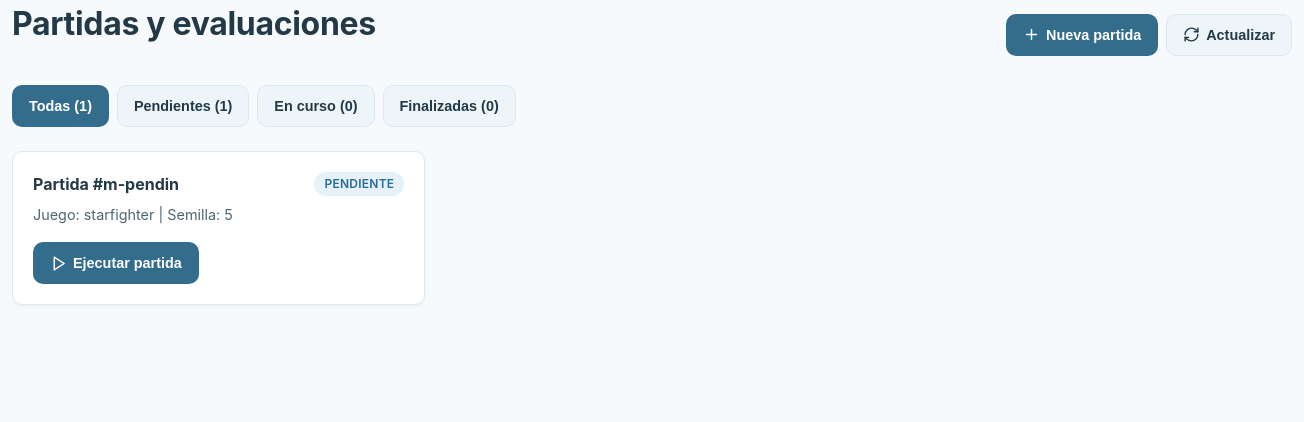
Test: Error States and Recovery (ADR-0009 / F0.6) › MatchesPage error handling › displays inline accessible error alert instead of native alert on execution failure
Click the button "Ejecutar partida" at [116, 263], box 33,242 -> 199,284
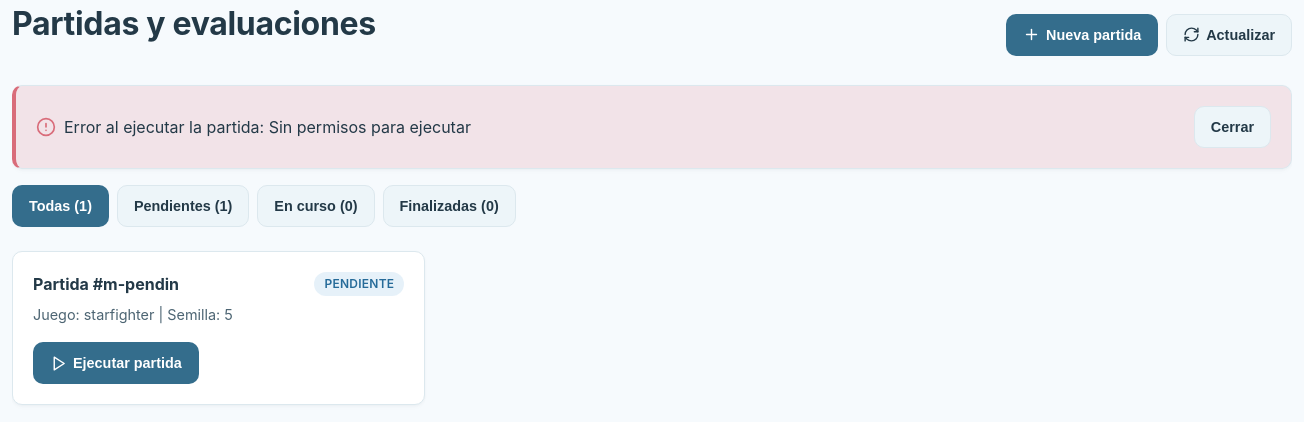
Now the message "Error al ejecutar la partida: Sin permisos para ejecutar Cerrar" is shown, box 12,85 -> 1292,169
Now the text "Error al ejecutar la partida: Sin permisos para ejecutar" is shown, box 64,115 -> 471,139
